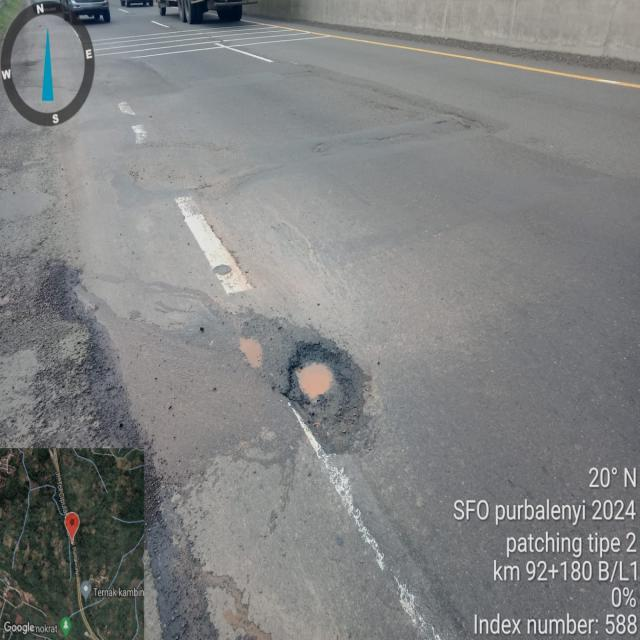Buraco: (278, 338, 355, 428), (234, 332, 268, 374), (17, 57, 44, 69)
